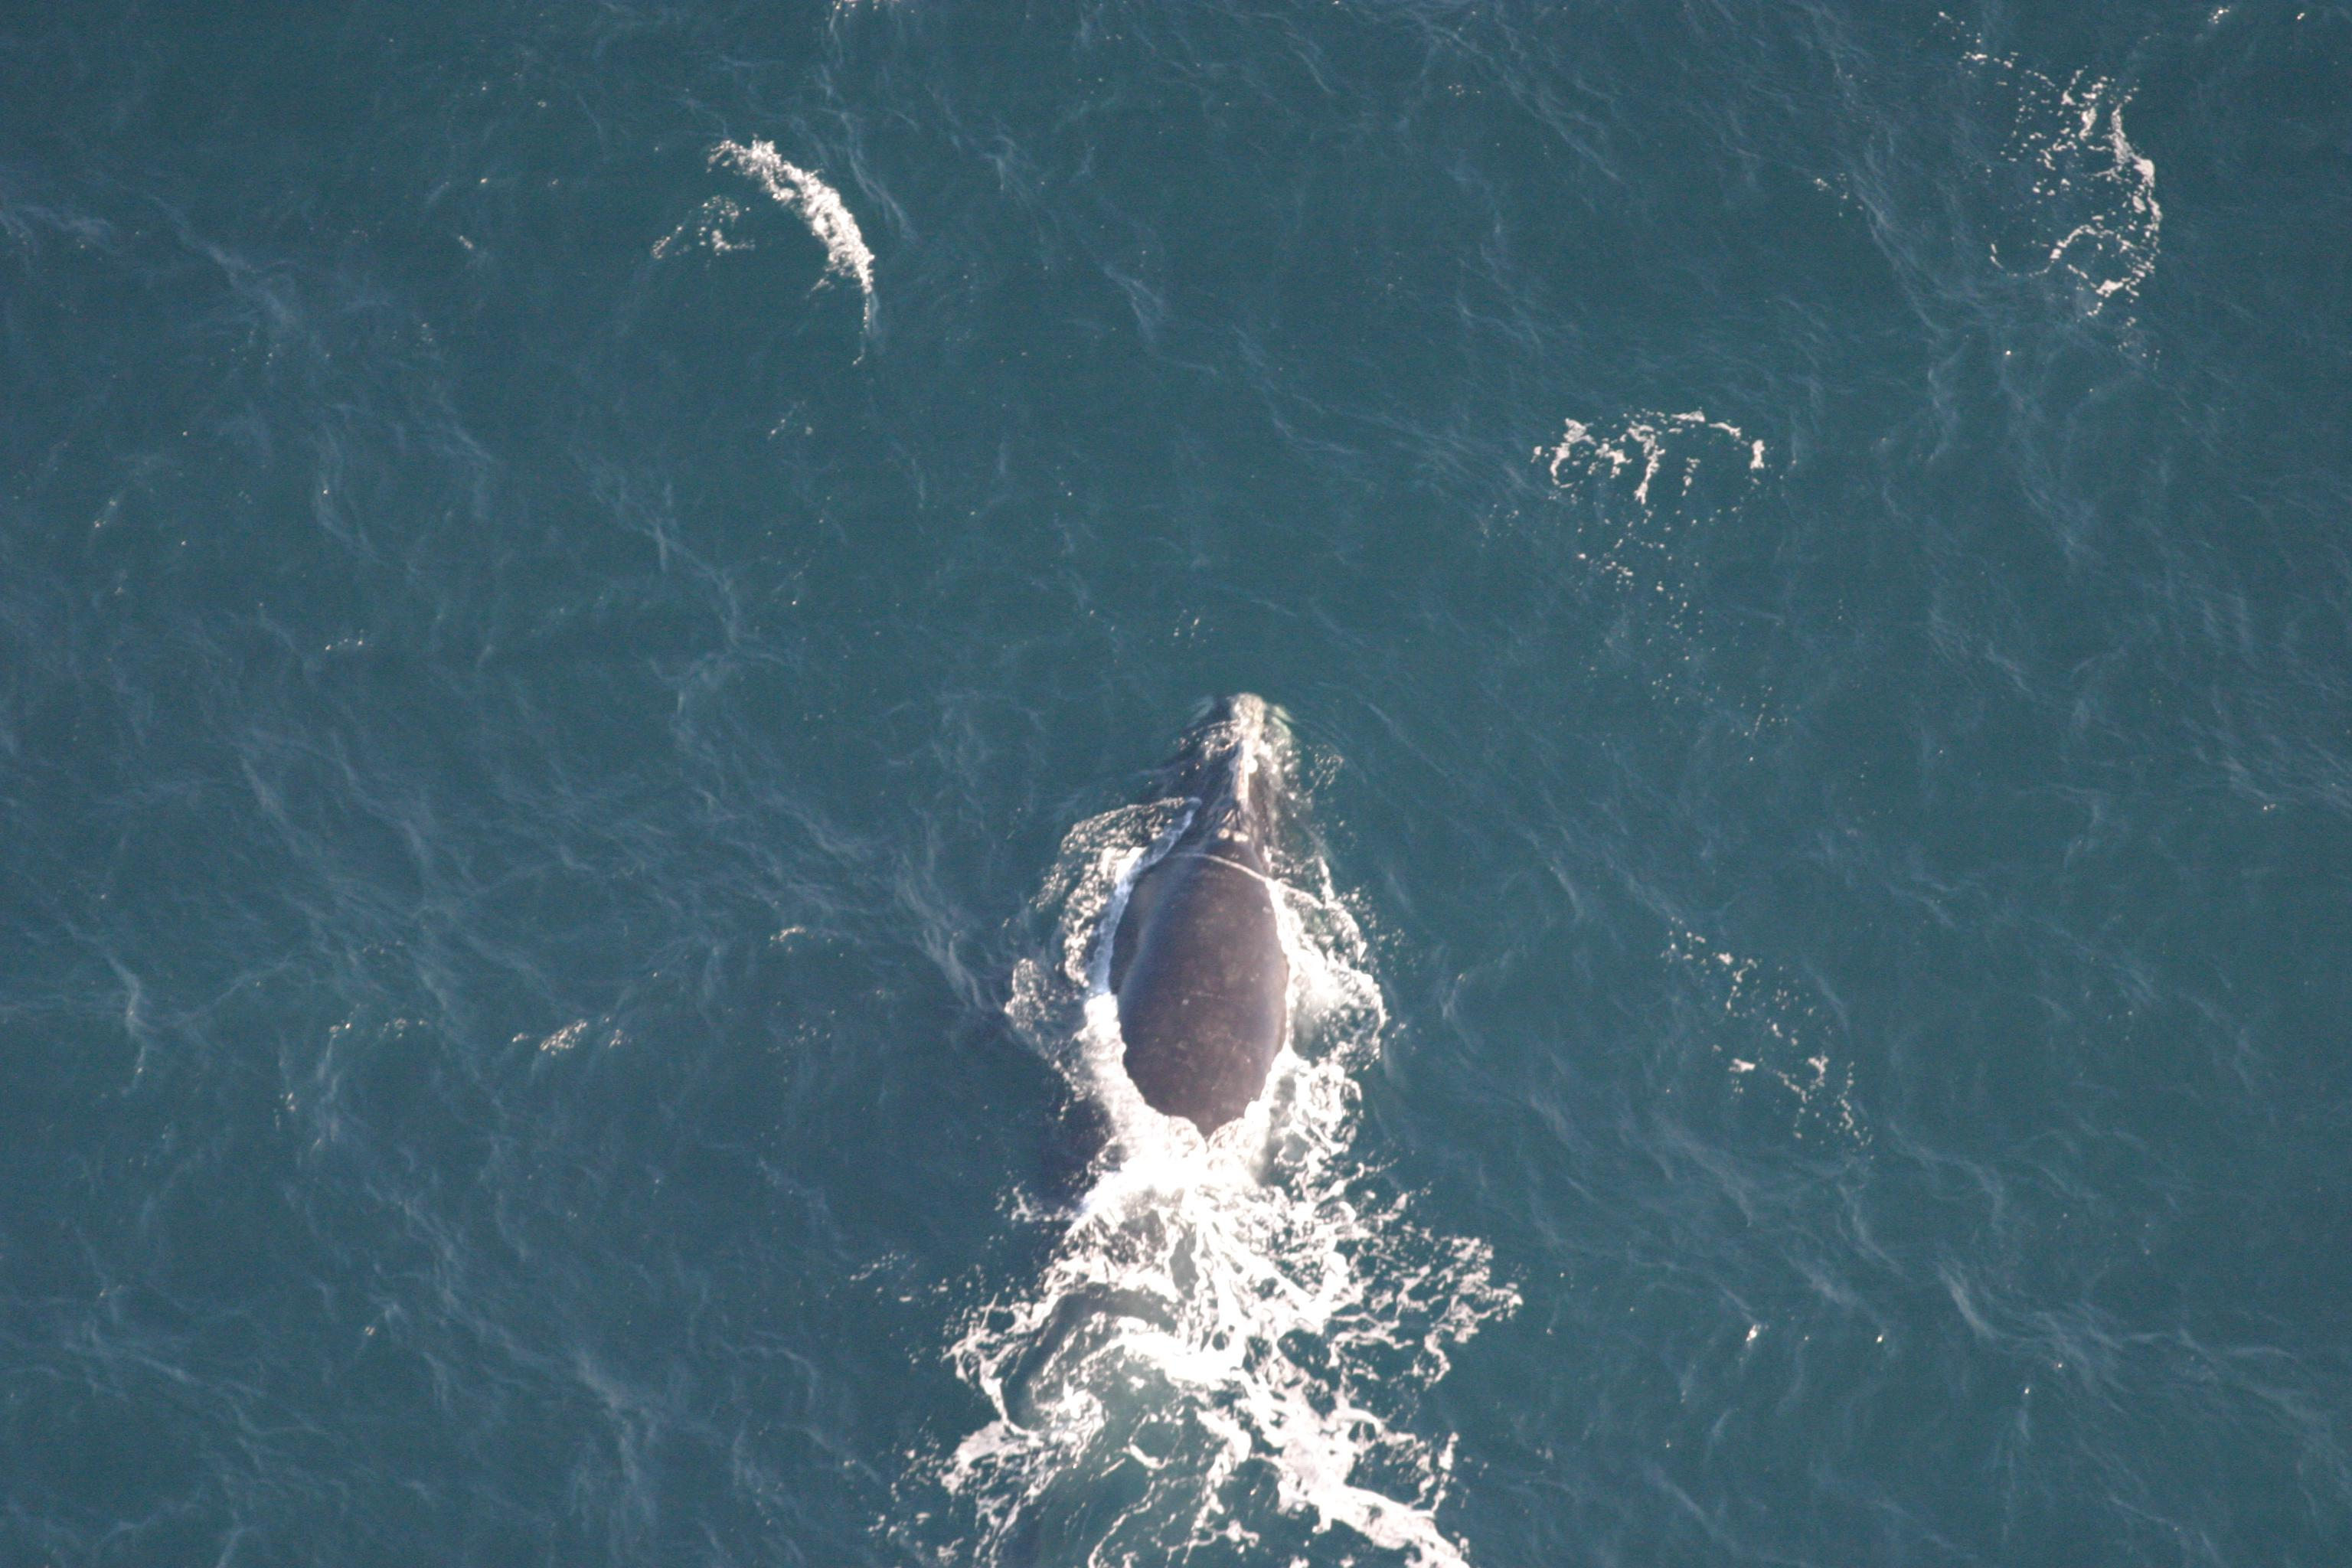whale: (989, 693, 1340, 1568)
